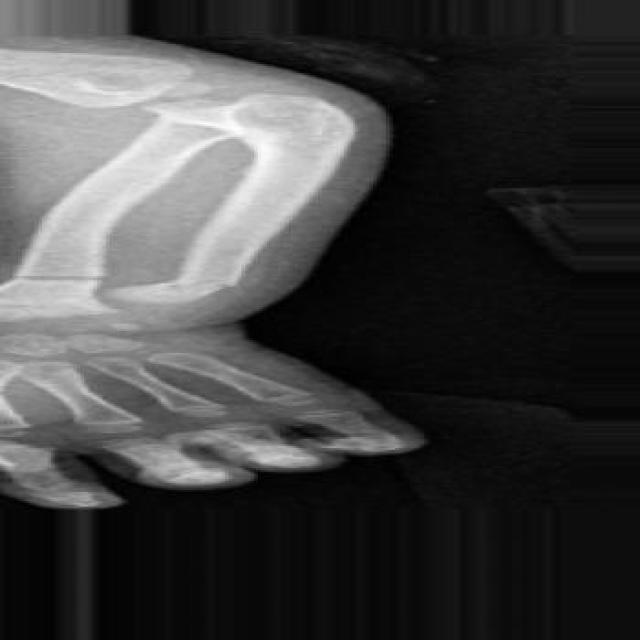Fracture: (9, 263, 124, 291), (152, 269, 251, 296)
